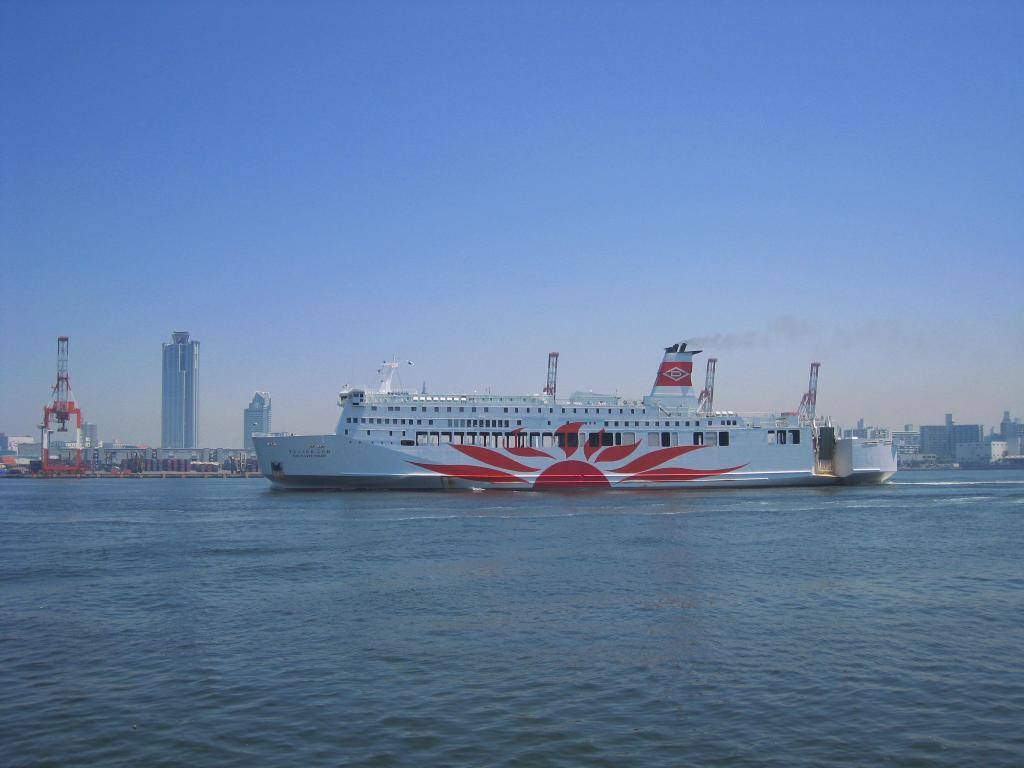PassengerShip: (248, 333, 908, 489)
